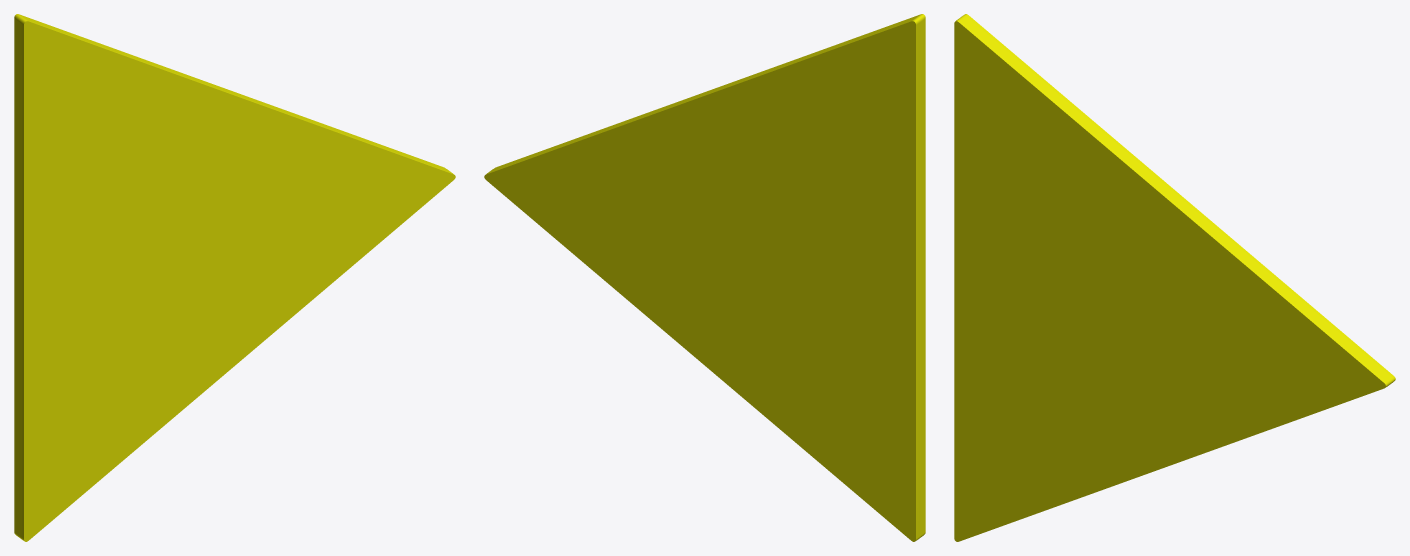
The model's file is Back.fbx.
3 views of the same model, side by side, from view 1: azimuth 30°, elevation 25°; view 2: azimuth 150°, elevation 25°; view 3: azimuth 330°, elevation 25° (orthographic).
Parts seen in each view (by area): view 1: bevelPolygon2; view 2: bevelPolygon2; view 3: bevelPolygon2.
Boxes of the visible parts, bbox=[...] form: bevelPolygon2: bbox=[14, 14, 455, 541]; bevelPolygon2: bbox=[484, 14, 925, 541]; bevelPolygon2: bbox=[954, 14, 1395, 541].
Bounding box in the file's own units: 5.15 × 5.93 × 0.2016.
